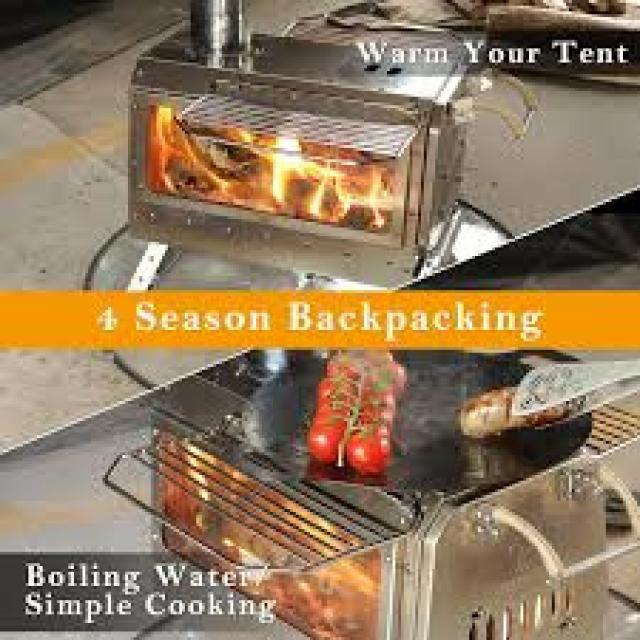fire: (234, 128, 394, 232), (285, 507, 375, 625), (149, 106, 188, 194), (182, 438, 218, 498)
